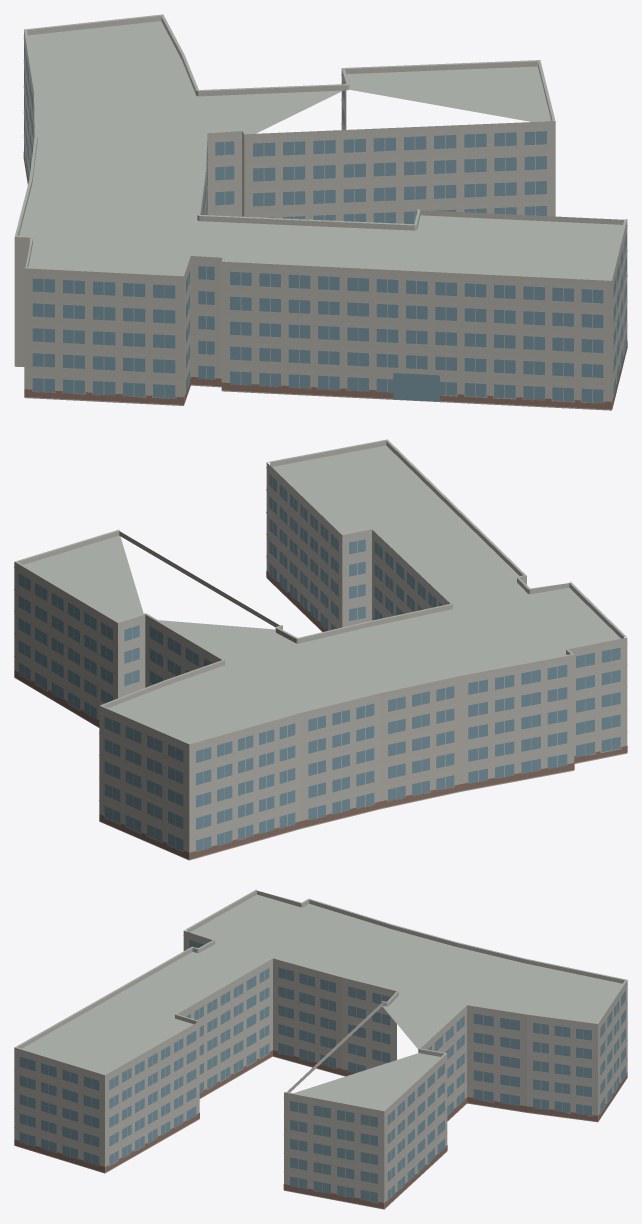
The model's file is public-f274a044-9ce1-4fba-9790-fa9d02818dfc.glb.
3 views of the same model, one above another, from view 1: azimuth 30°, elevation 25°; view 2: azimuth 150°, elevation 25°; view 3: azimuth 270°, elevation 25° (orthographic). The views are drawn at different scales.
Parts seen in each view (by area): view 1: public-f274a044-9ce1-4fba-9790-fa9d02818dfc; view 2: public-f274a044-9ce1-4fba-9790-fa9d02818dfc; view 3: public-f274a044-9ce1-4fba-9790-fa9d02818dfc.
Part boxes in pixels (box(x1,y1,x2,y2)): public-f274a044-9ce1-4fba-9790-fa9d02818dfc: box(14, 14, 627, 410); public-f274a044-9ce1-4fba-9790-fa9d02818dfc: box(14, 439, 627, 860); public-f274a044-9ce1-4fba-9790-fa9d02818dfc: box(14, 889, 627, 1209).
Bounding box in the file's own units: 74 × 15.25 × 86.35.
